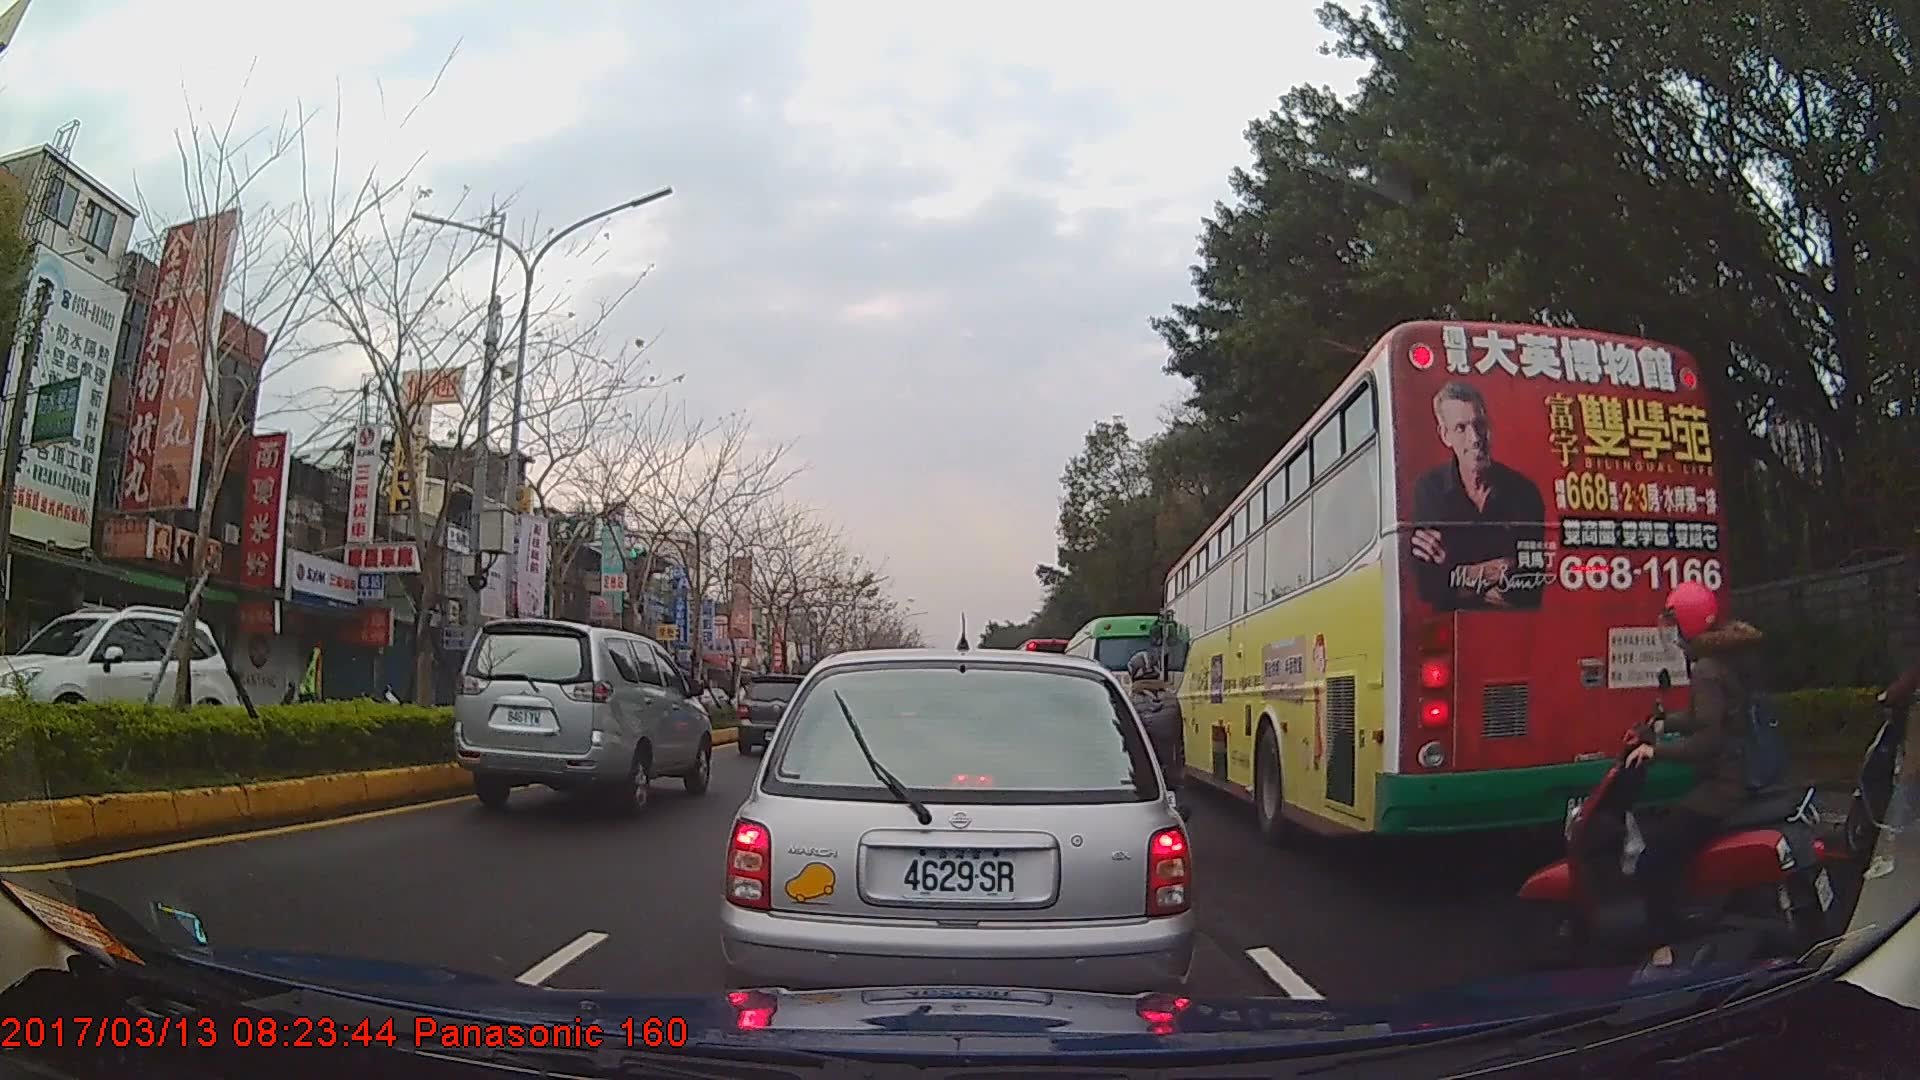rider: (1520, 581, 1836, 983), (1841, 571, 1920, 894), (1116, 651, 1185, 831)
vehicle: (1160, 317, 1731, 845), (722, 646, 1191, 1028), (452, 617, 712, 815), (0, 603, 241, 757), (1062, 613, 1186, 769), (737, 673, 817, 757)
